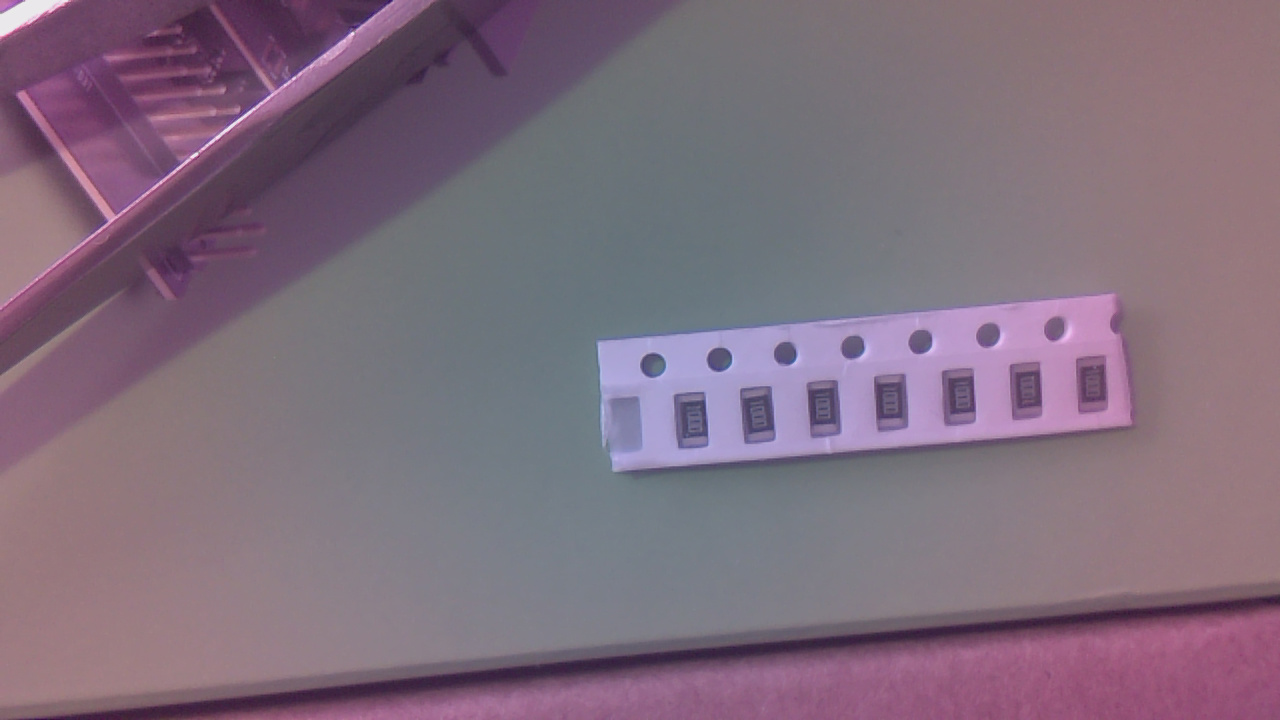Resistor: (743, 389, 781, 448), (679, 395, 716, 455), (1014, 364, 1050, 424), (1079, 359, 1114, 419), (946, 370, 980, 431), (811, 383, 845, 444), (878, 377, 913, 436)
